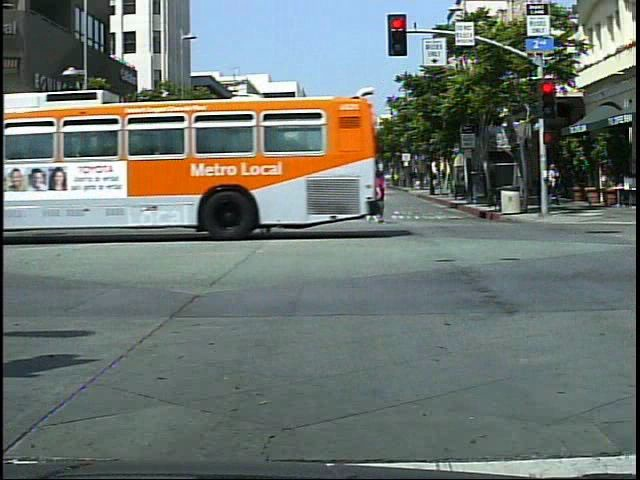person: (264, 165, 296, 229), (159, 168, 188, 235), (365, 166, 394, 230), (547, 160, 563, 208)
